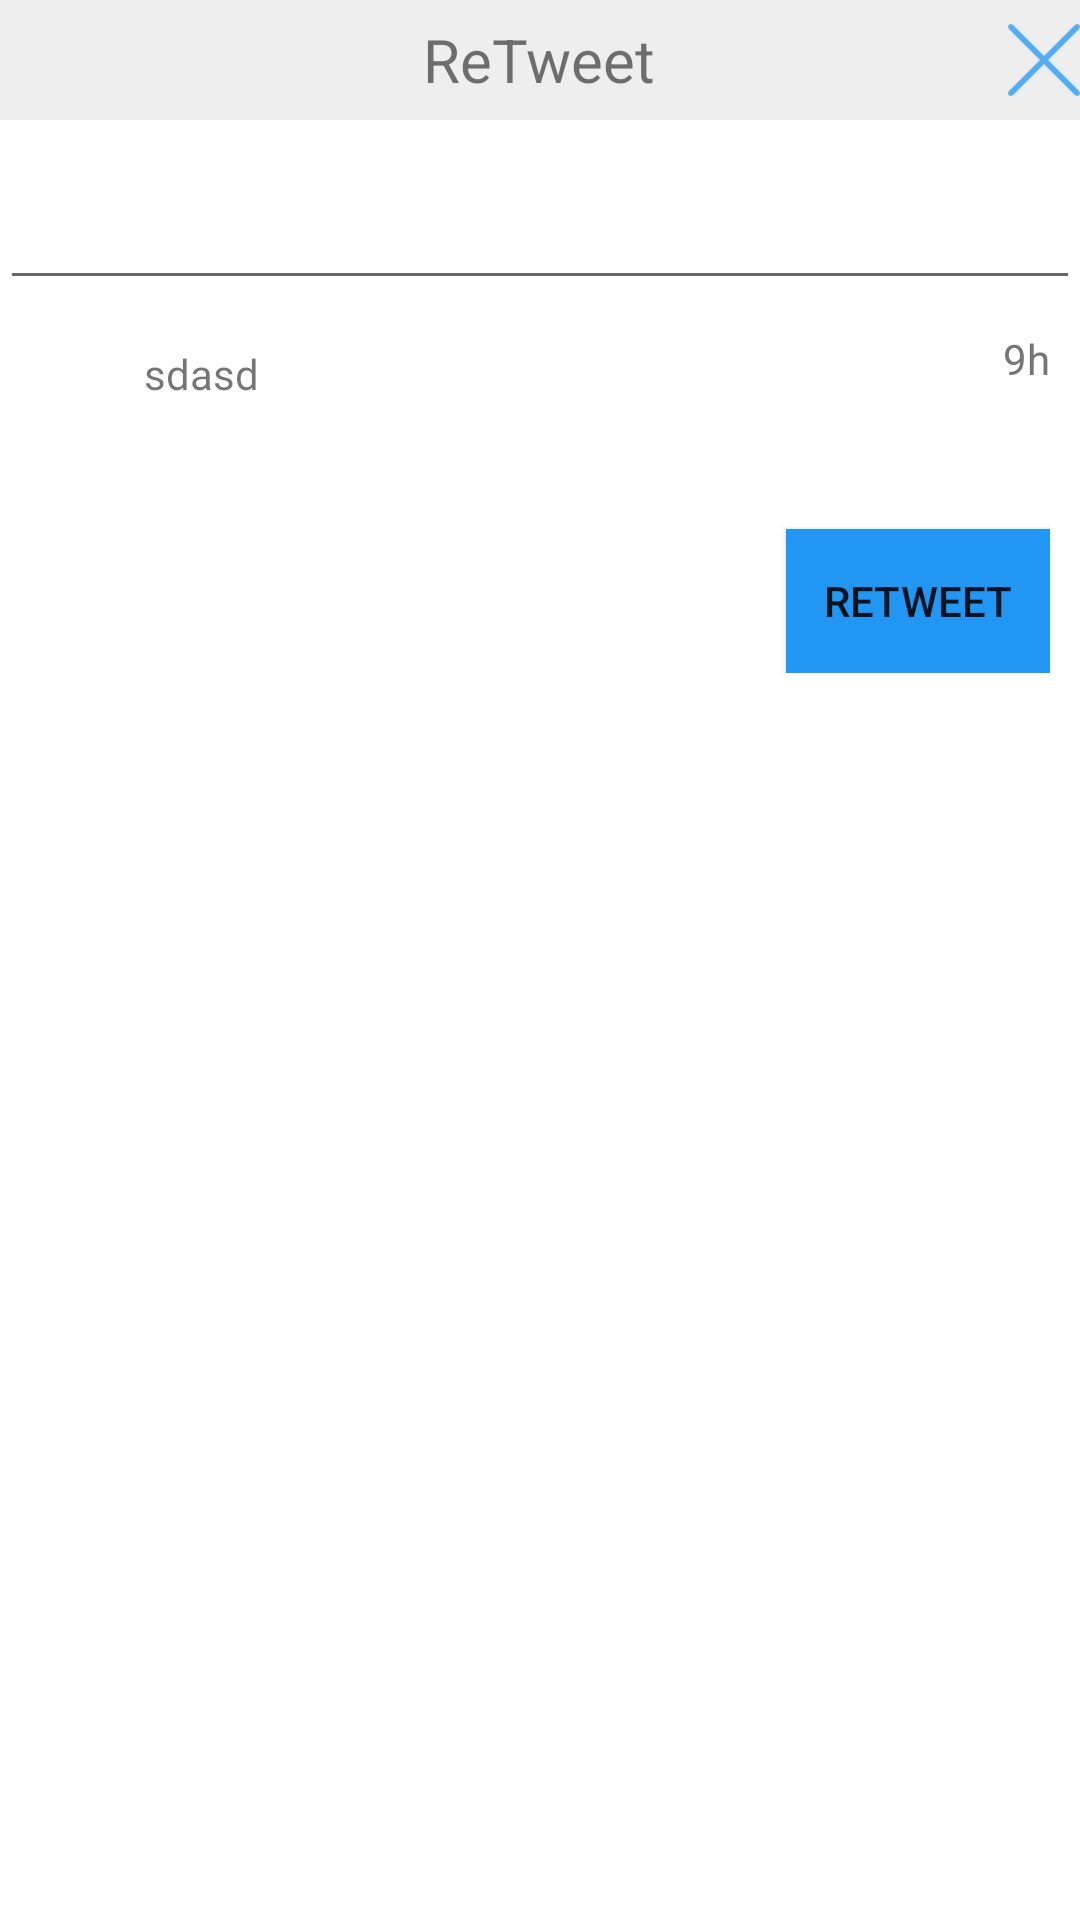

Locate icon controls on the screen. Image size 1080×1920, boxes as (x1, y1, x2, y2).
close: (1008, 24, 1080, 96)
